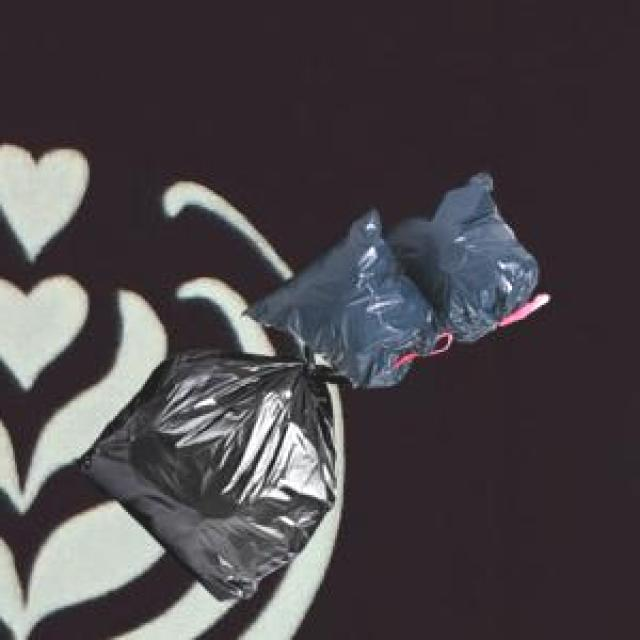Trashbag: (94, 362, 336, 596), (256, 219, 423, 381), (405, 186, 539, 350)
